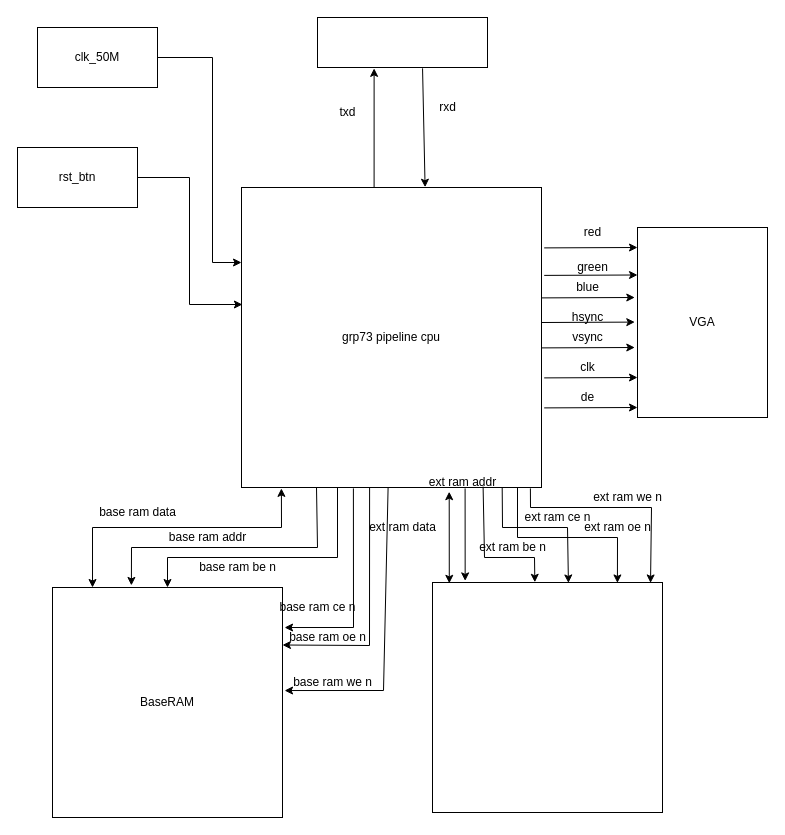
Some shapes in this 785 by 835 pixel diagram are drawn without their labels. The centre of each missing label's shape, as x and y in pixels:
EXT RAM: [547,697]
UART: [402,42]
